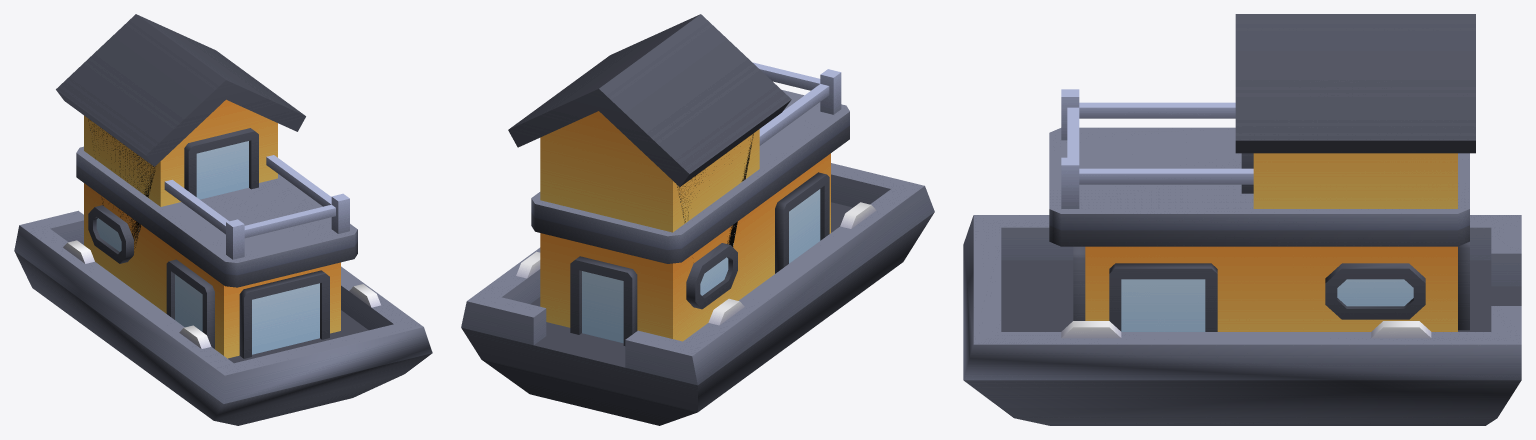
File: home_boat.glb
3 views of the same model, side by side, from view 1: azimuth 30°, elevation 25°; view 2: azimuth 150°, elevation 25°; view 3: azimuth 270°, elevation 25° (orthographic). The views are drawn at different scales.
Parts seen in each view (by area): view 1: boat-house-d; view 2: boat-house-d; view 3: boat-house-d.
Part boxes in pixels (x1=…): boat-house-d: x1=14, y1=14, x2=432, y2=425; boat-house-d: x1=461, y1=14, x2=934, y2=425; boat-house-d: x1=963, y1=14, x2=1521, y2=425.
Size of the model in its own units: 2.68 by 3.44 by 4.64.
Materials: 1 (1 with a texture image).
